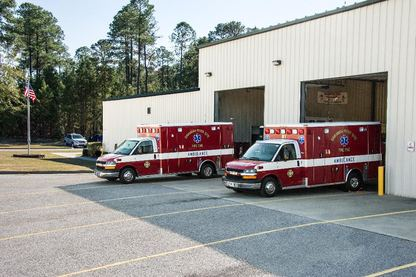ambulance: (223, 122, 386, 195), (94, 124, 235, 184)
